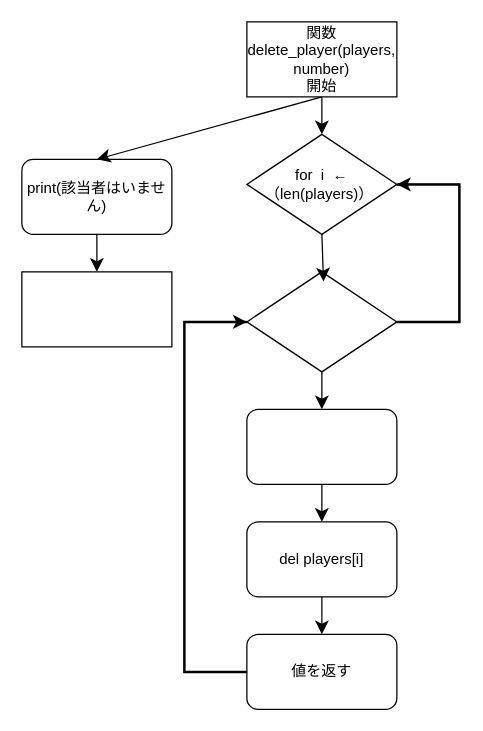
This 483x731 diagram has some shape labels left out. Each missing label, with the box of its shape:
if players[i] == number: (246, 271, 397, 372)
print(削除しました): (246, 408, 397, 484)
終了: (21, 271, 172, 347)
